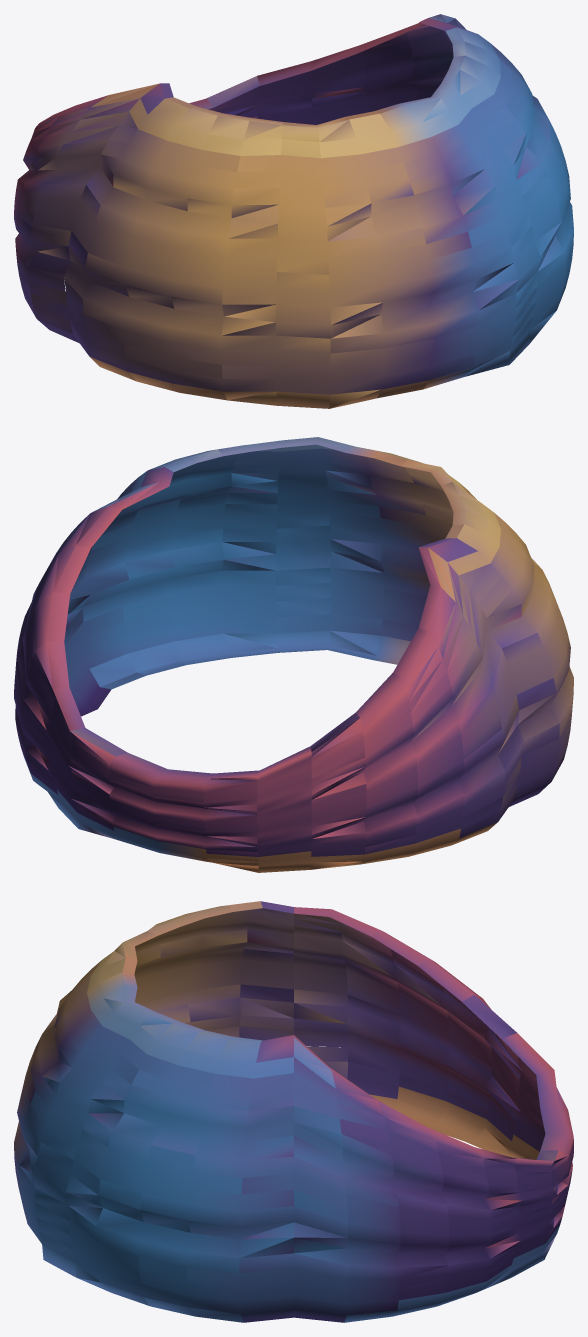
The model's file is Fusion_Armor.glb.
3 renders of one model, top to bottom at view 1: azimuth 30°, elevation 25°; view 2: azimuth 150°, elevation 25°; view 3: azimuth 270°, elevation 25°, orthographic.
Parts seen in each view (by area): view 1: Fusion_Armor; view 2: Fusion_Armor; view 3: Fusion_Armor.
Part boxes in pixels (x1,y1,x2,y2): Fusion_Armor: (14, 14, 573, 408); Fusion_Armor: (14, 437, 573, 872); Fusion_Armor: (14, 901, 573, 1322).
Size of the model in its own units: 1.3 by 0.6358 by 1.32.
